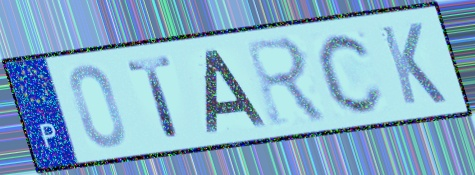0: (68, 62, 129, 151)
A: (203, 48, 271, 135)
C: (315, 29, 389, 117)
K: (376, 20, 450, 108)
R: (241, 33, 333, 128)
T: (123, 53, 184, 141)
